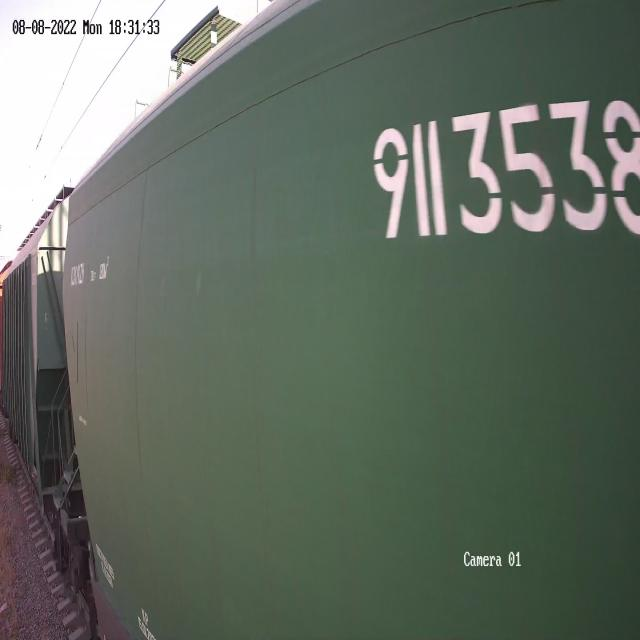hopper: (54, 0, 640, 640), (0, 179, 72, 510)
